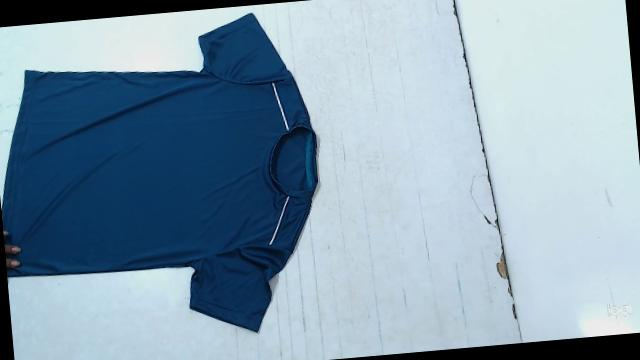new-garment: (2, 14, 318, 332)
